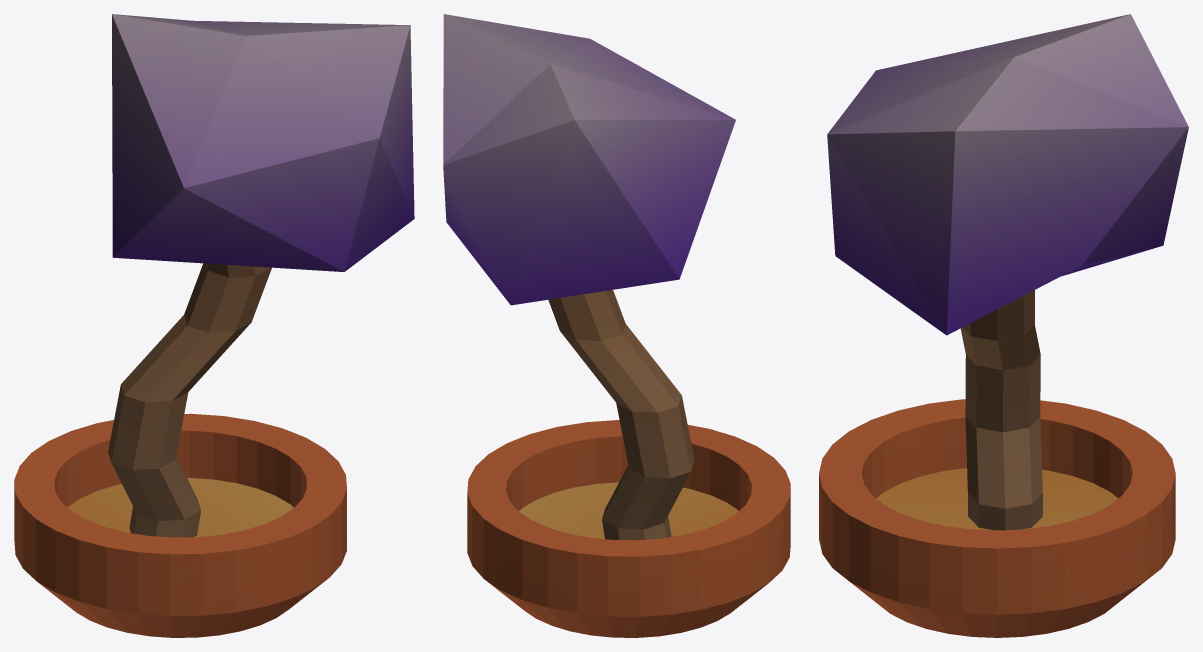
File: Fruit Tree.fbx
The picture shows the model from 3 angles, left to right: view 1: azimuth 30°, elevation 25°; view 2: azimuth 150°, elevation 25°; view 3: azimuth 270°, elevation 25°; orthographic projection. The views are drawn at different scales.
Visible parts, largest first — view 1: Leaves, Pot, Trunk; view 2: Leaves, Pot, Trunk; view 3: Leaves, Pot, Trunk.
Boxes of the visible parts, x1,y1,x2,y2 form: Leaves: (112, 14, 414, 271); Pot: (14, 413, 346, 637); Trunk: (108, 263, 271, 537); Leaves: (443, 14, 735, 305); Pot: (467, 420, 790, 637); Trunk: (548, 290, 694, 540); Leaves: (827, 14, 1188, 335); Pot: (819, 399, 1175, 637); Trunk: (960, 290, 1042, 530).
Size of the model in its own units: 340 by 485 by 287.
